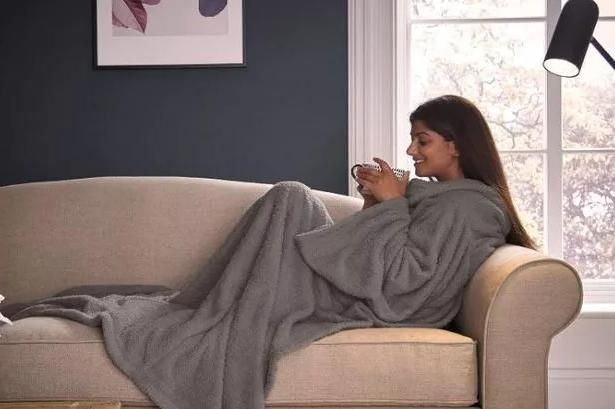blanket: (5, 176, 515, 409)
